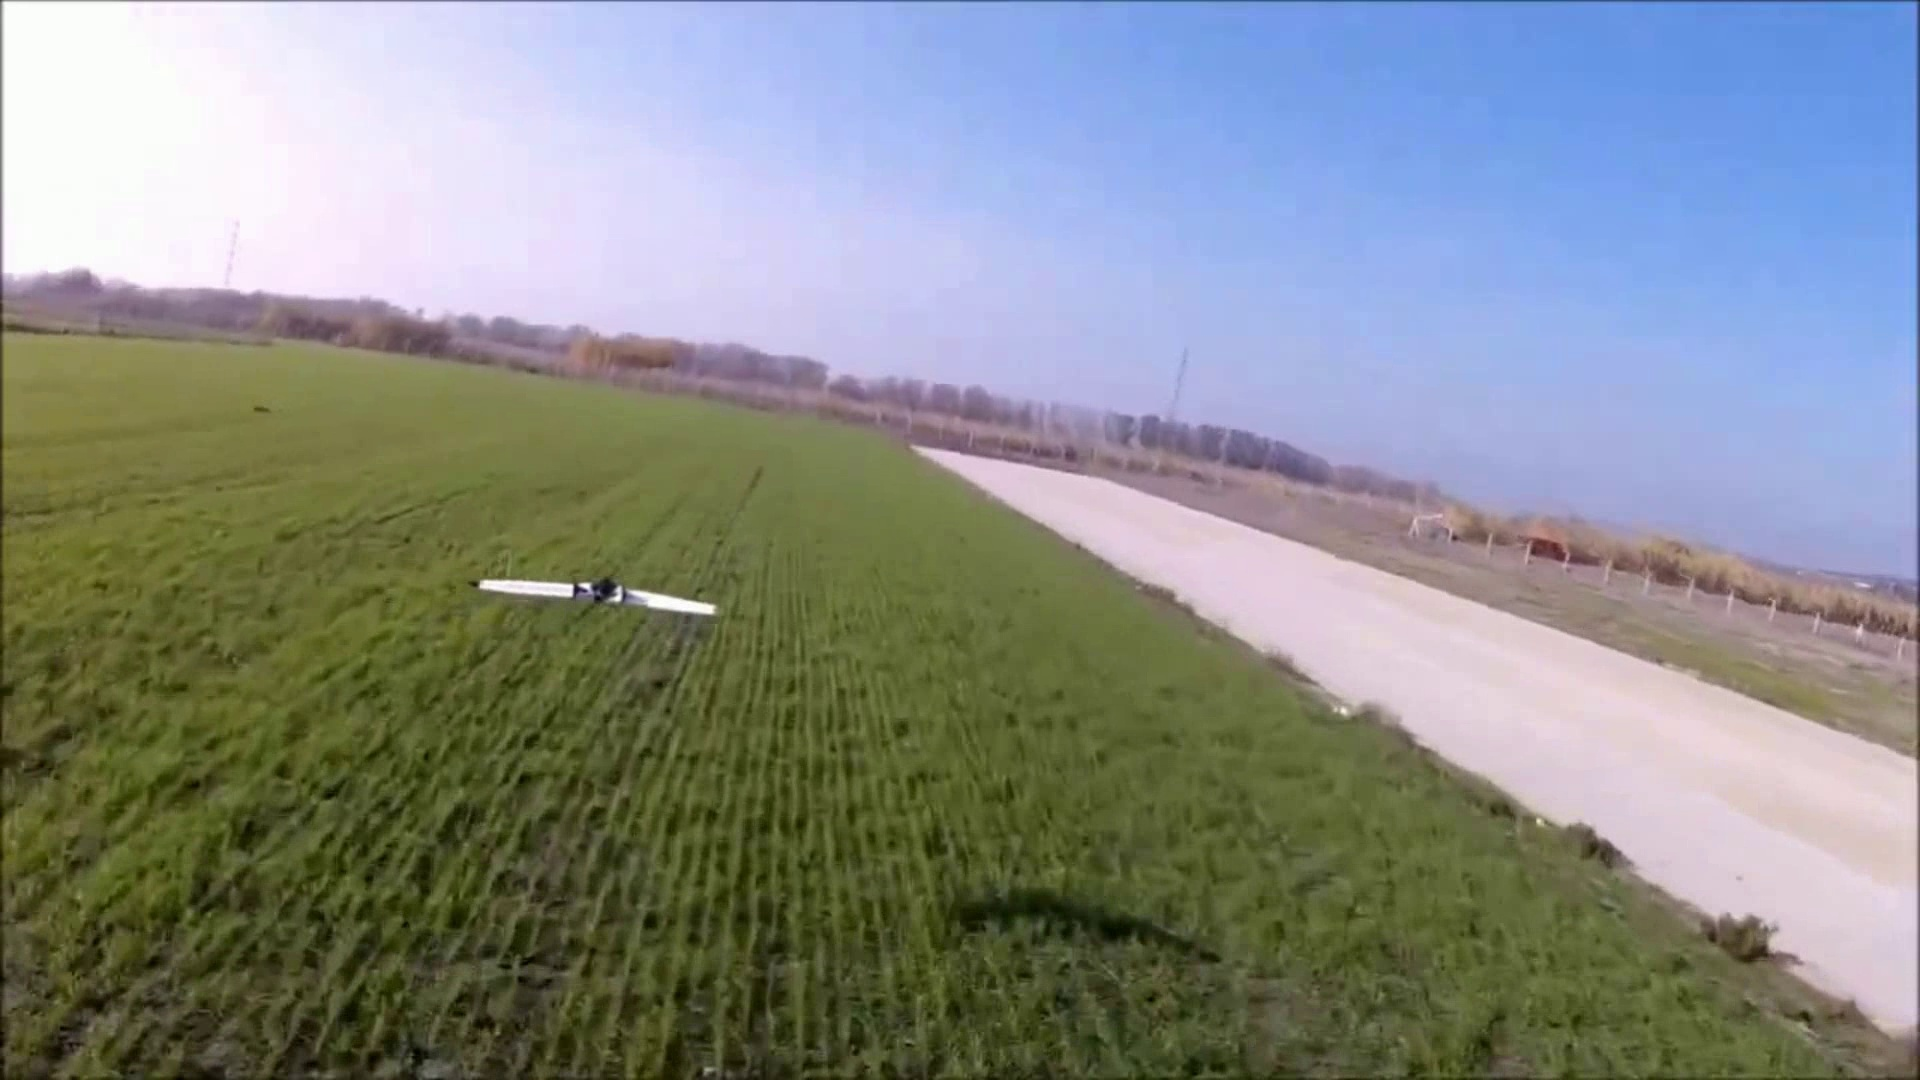airplane: (476, 574, 717, 622)
